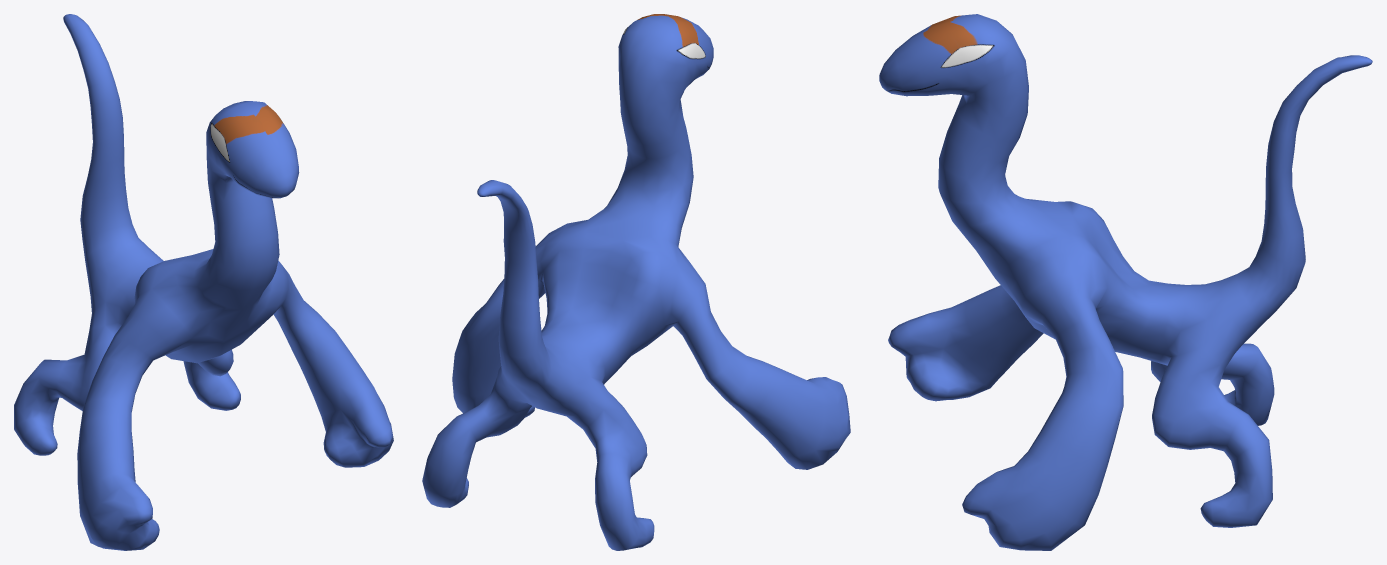
Rendered from pose3.obj.
The picture shows the model from 3 angles, left to right: view 1: azimuth 30°, elevation 25°; view 2: azimuth 150°, elevation 25°; view 3: azimuth 270°, elevation 25°; orthographic projection. The views are drawn at different scales.
Parts seen in each view (by area): view 1: LagartoBase_PolySphere; view 2: LagartoBase_PolySphere; view 3: LagartoBase_PolySphere.
Boxes of the visible parts, left/top/right/bottom form: LagartoBase_PolySphere: left=14, top=14, right=393, bottom=550; LagartoBase_PolySphere: left=422, top=14, right=850, bottom=550; LagartoBase_PolySphere: left=879, top=14, right=1372, bottom=550.
Size of the model in its own units: 11.36 by 13.35 by 13.06.
1 material, 1 textured.
